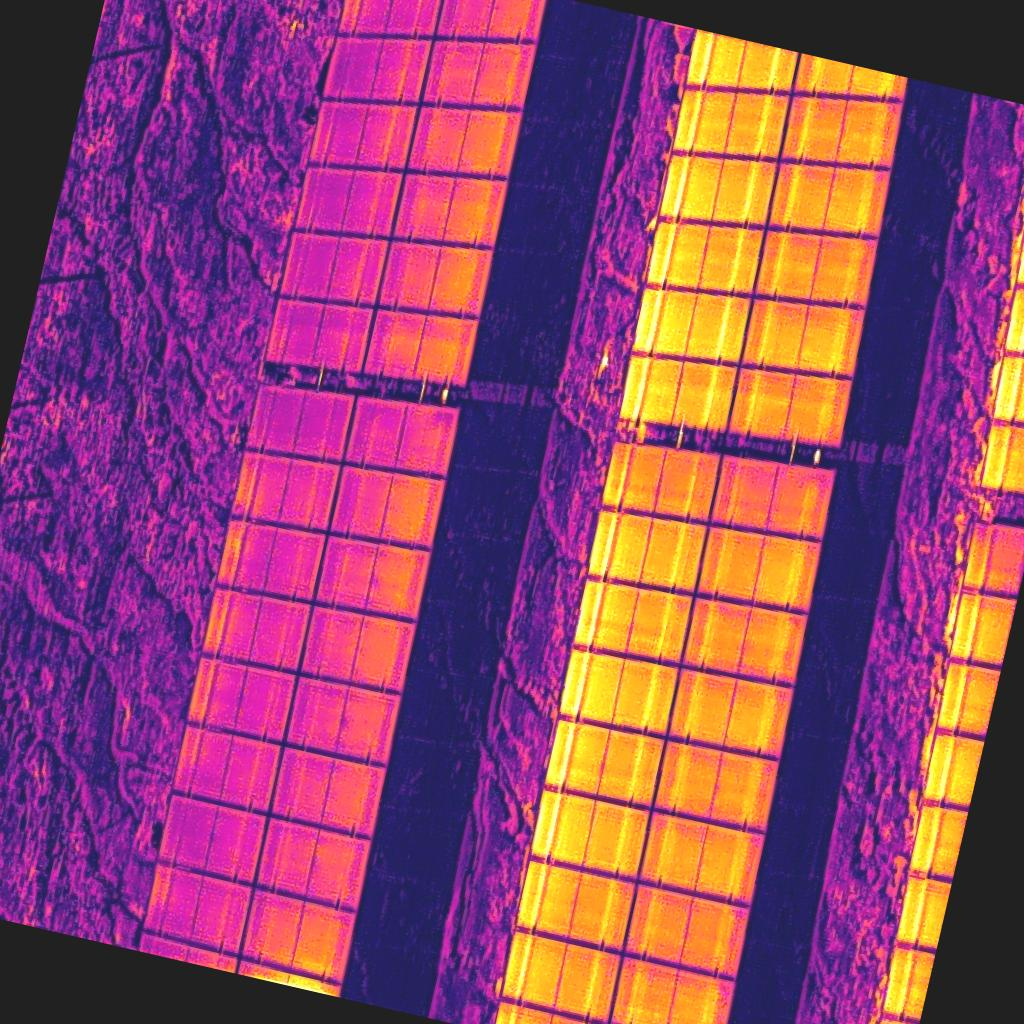panel: (668, 666, 793, 760), (695, 526, 822, 611), (530, 789, 650, 878), (243, 887, 356, 979), (174, 726, 281, 811), (345, 397, 459, 475), (599, 445, 715, 520), (265, 301, 372, 372)
